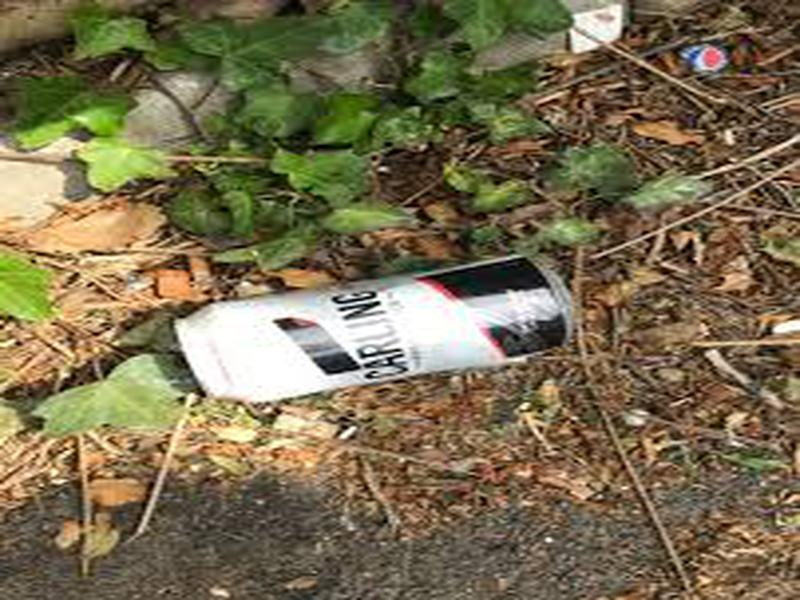can: (167, 249, 582, 412)
leaf: (35, 347, 187, 434)
